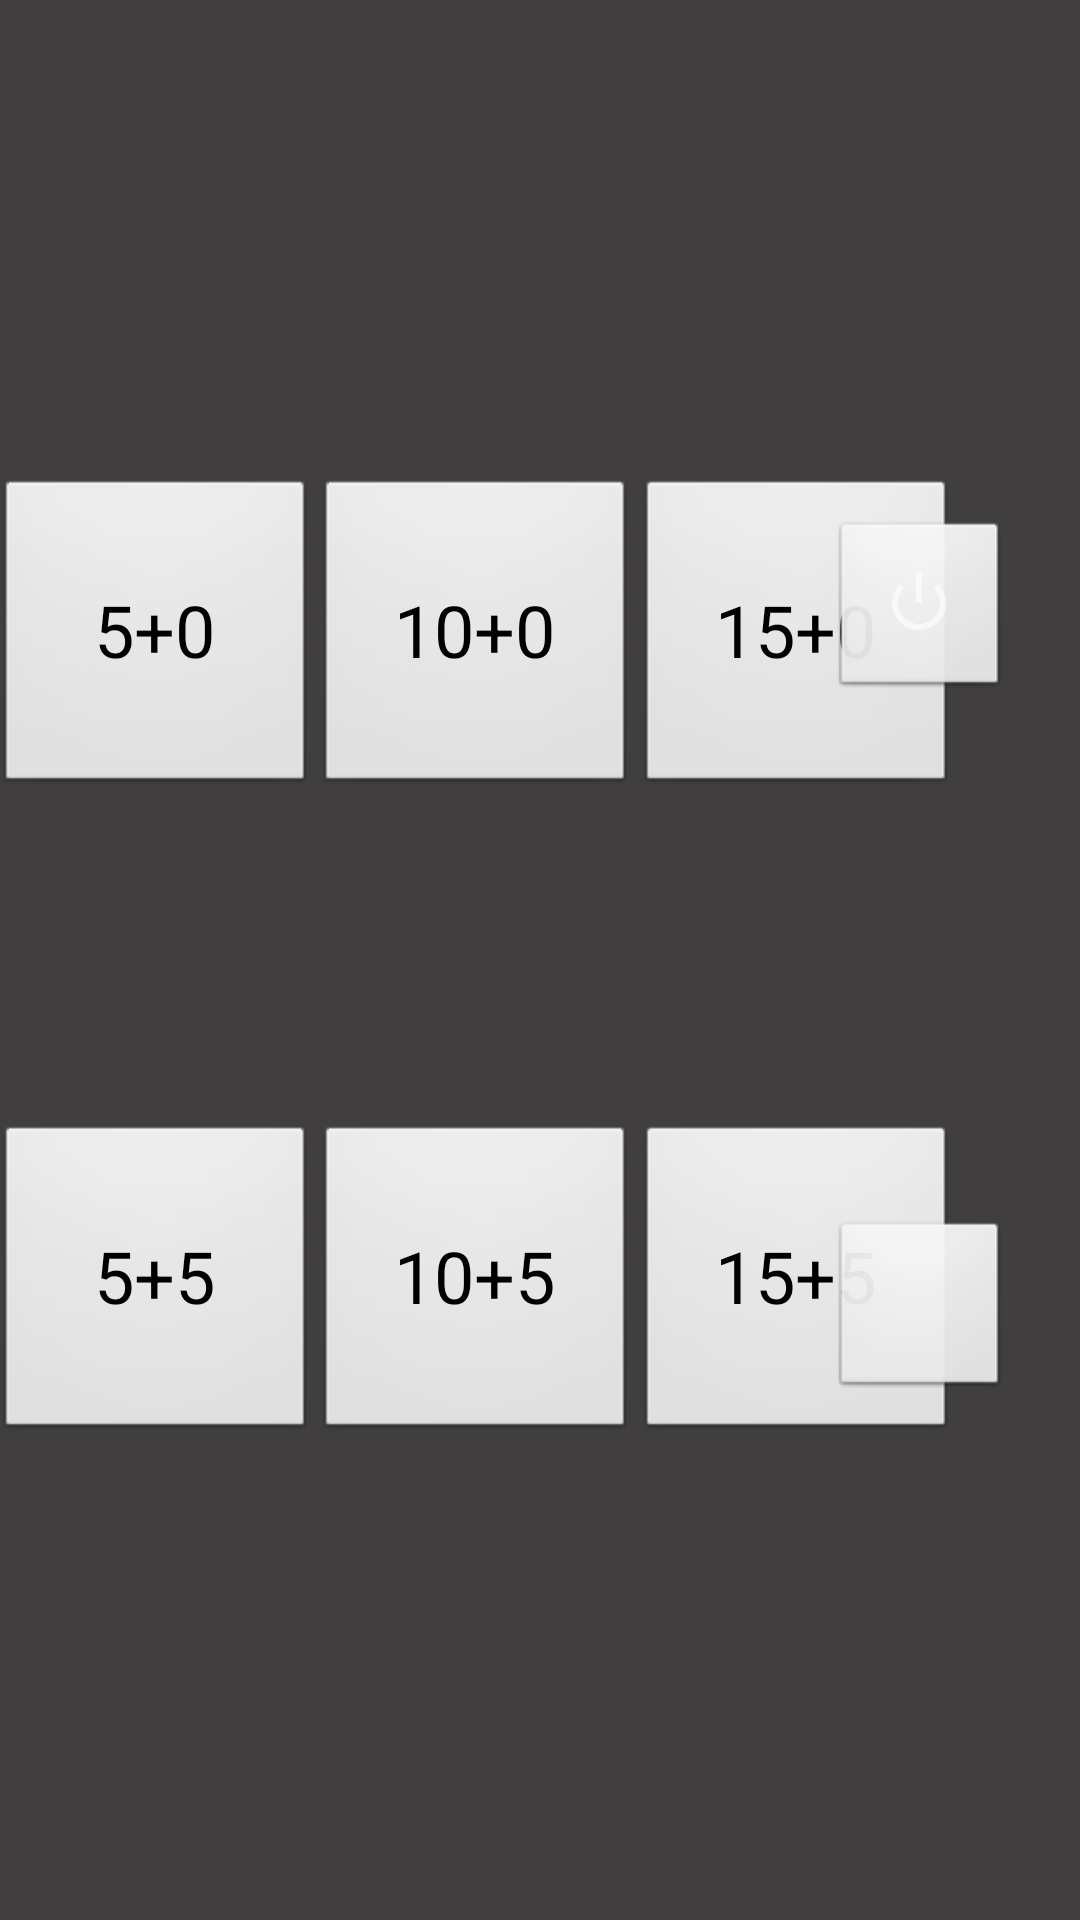

Point at icon controls on the screen. Image size 1080*1920, points as (x=x, y=y).
lock power off: (x=920, y=610)
